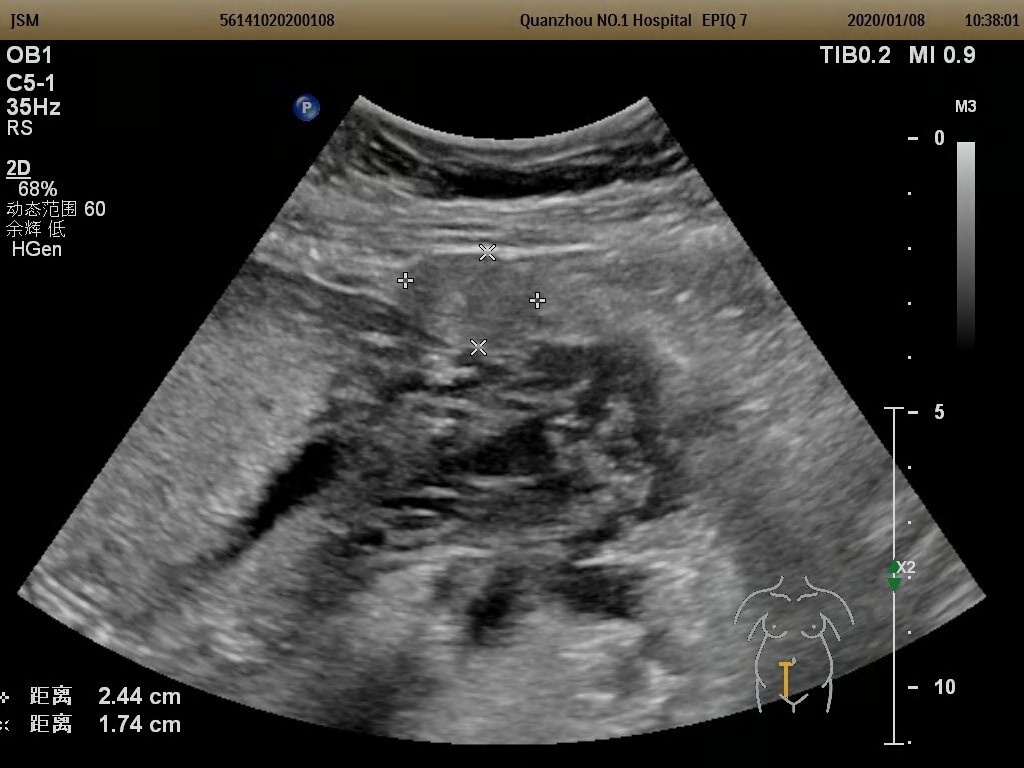肌瘤: (420, 257, 529, 341)
